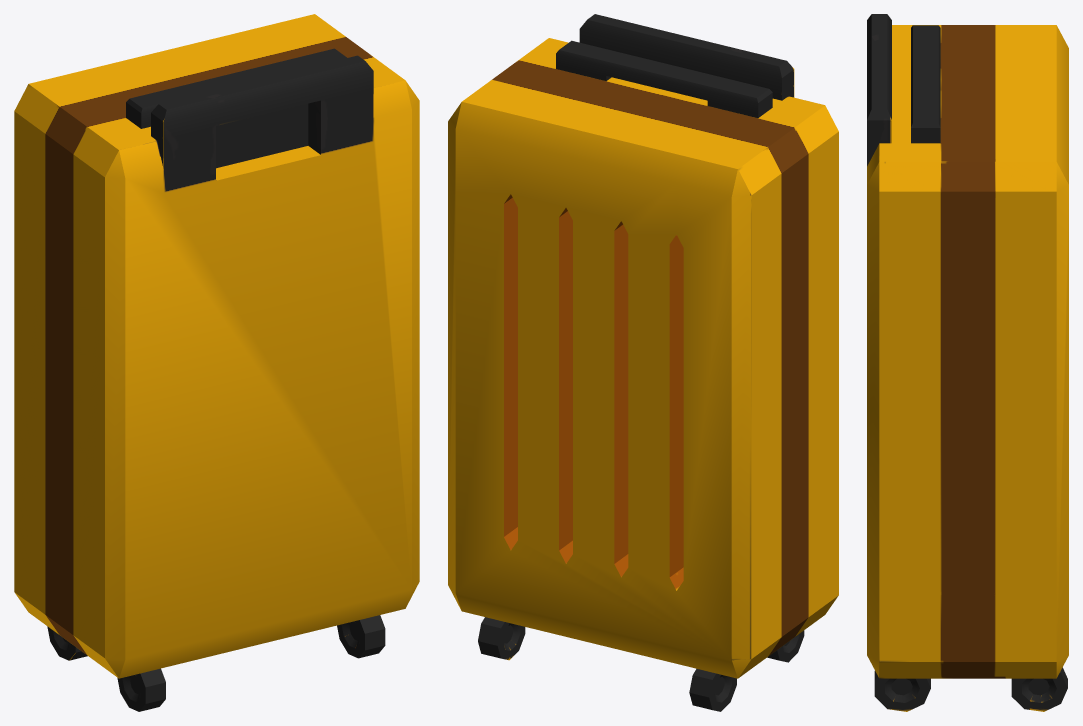
File: Washing Wrapper Machine.fbx
3 renders of one model, left to right at view 1: azimuth 30°, elevation 25°; view 2: azimuth 150°, elevation 25°; view 3: azimuth 270°, elevation 25°, orthographic. The views are drawn at different scales.
Visible parts, largest first — view 1: Cube.003; view 2: Cube.003; view 3: Cube.003.
Part boxes in pixels (x1,y1,x2,y2): Cube.003: (14, 14, 419, 711); Cube.003: (448, 14, 838, 711); Cube.003: (867, 14, 1068, 711).
Size of the model in its own units: 2.17 by 4 by 1.24.
